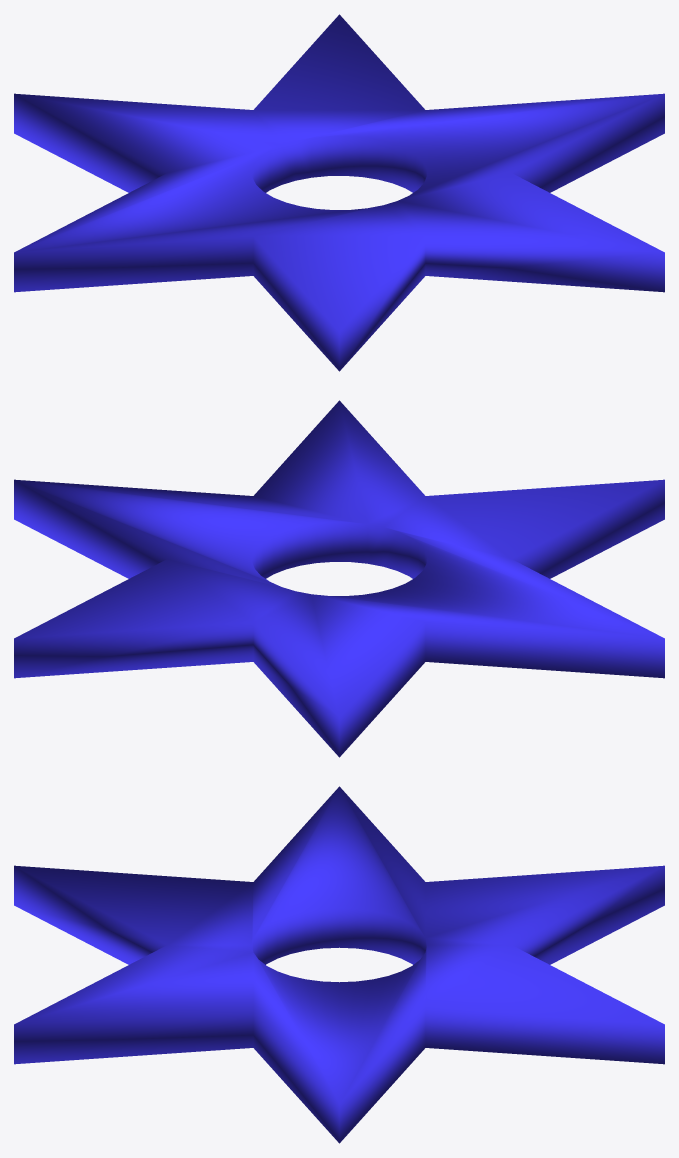
File: phi_tieu3.fbx
The picture shows the model from 3 angles, top to bottom: view 1: azimuth 30°, elevation 25°; view 2: azimuth 150°, elevation 25°; view 3: azimuth 270°, elevation 25°; orthographic projection.
Visible parts, largest first — view 1: Shuriken; view 2: Shuriken; view 3: Shuriken.
Part boxes in pixels (x1=…): Shuriken: x1=14, y1=14, x2=664, y2=371; Shuriken: x1=14, y1=400, x2=664, y2=757; Shuriken: x1=14, y1=786, x2=664, y2=1143.
Size of the model in its own units: 240 by 14 by 208.
